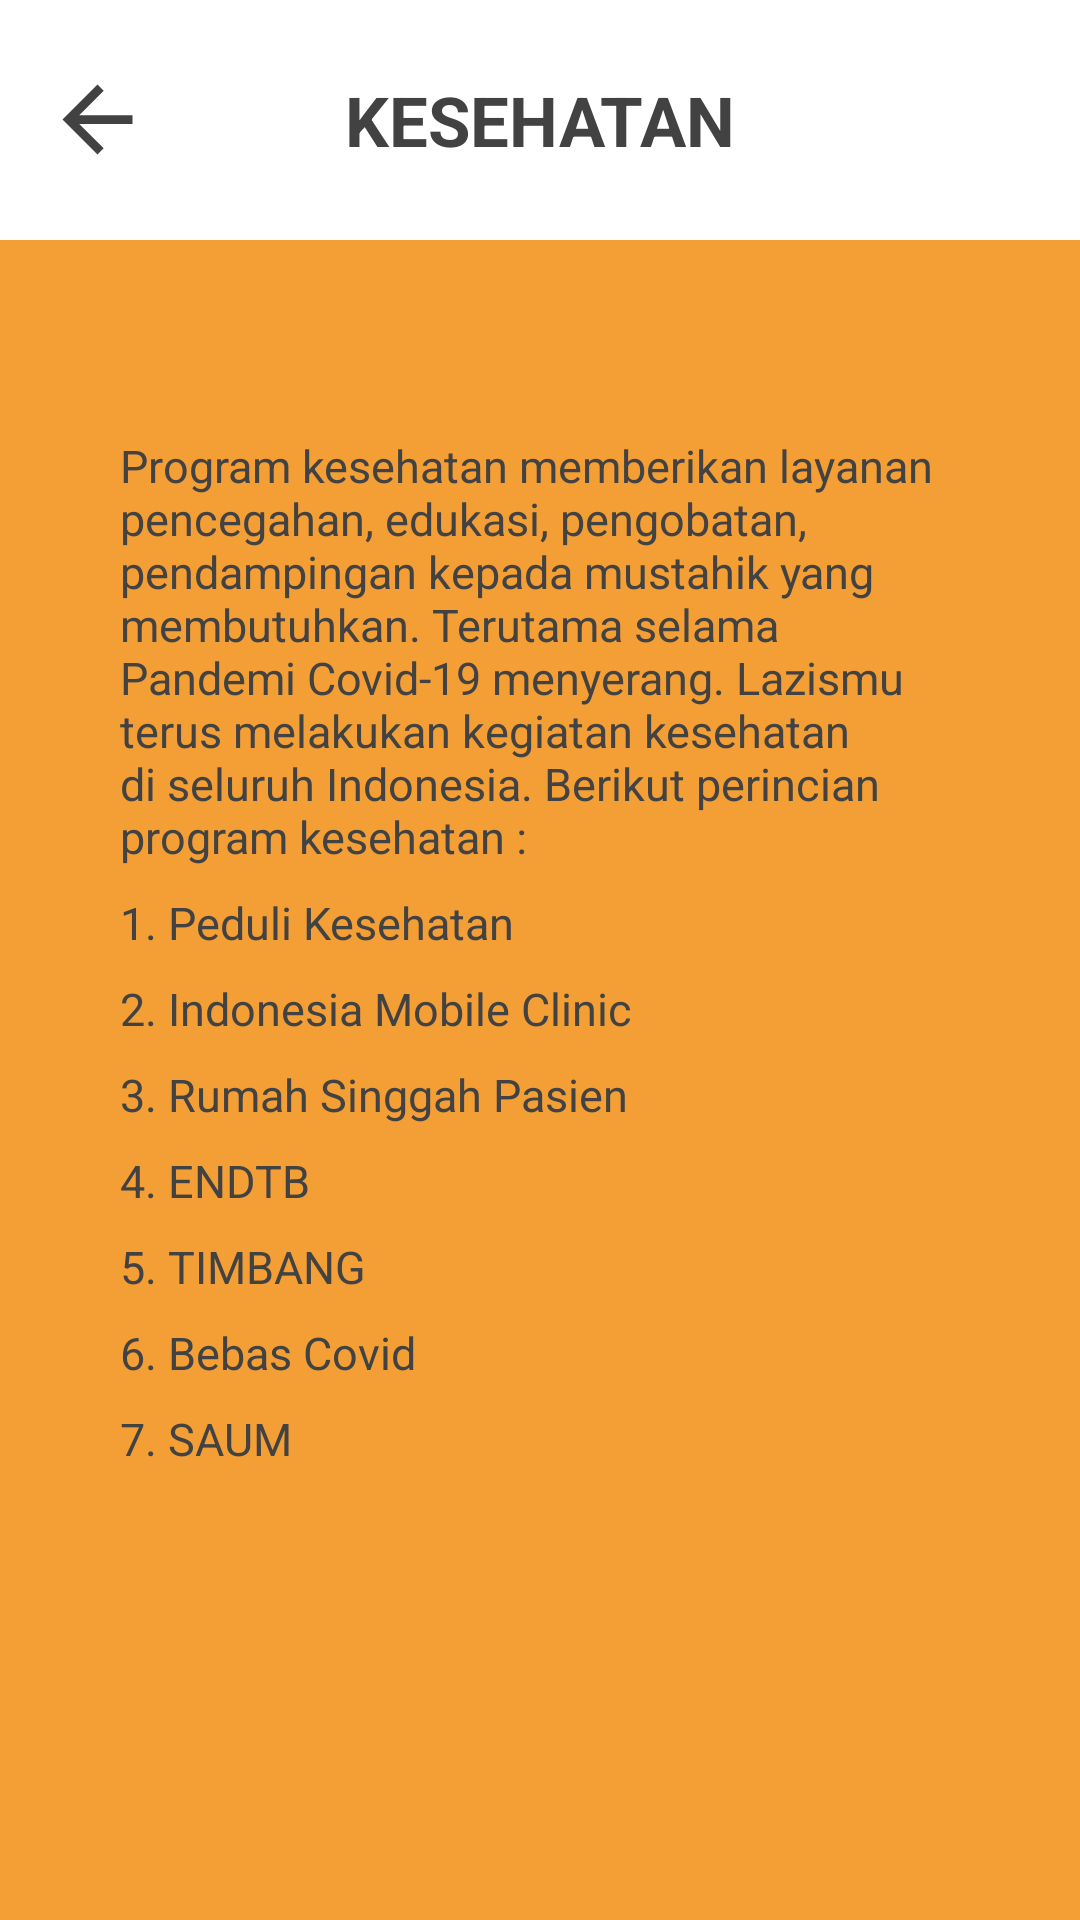

Where to tap for icons on this 1080*1920 app screen, as [x,y]:
kembaliicondark: [97,119]
